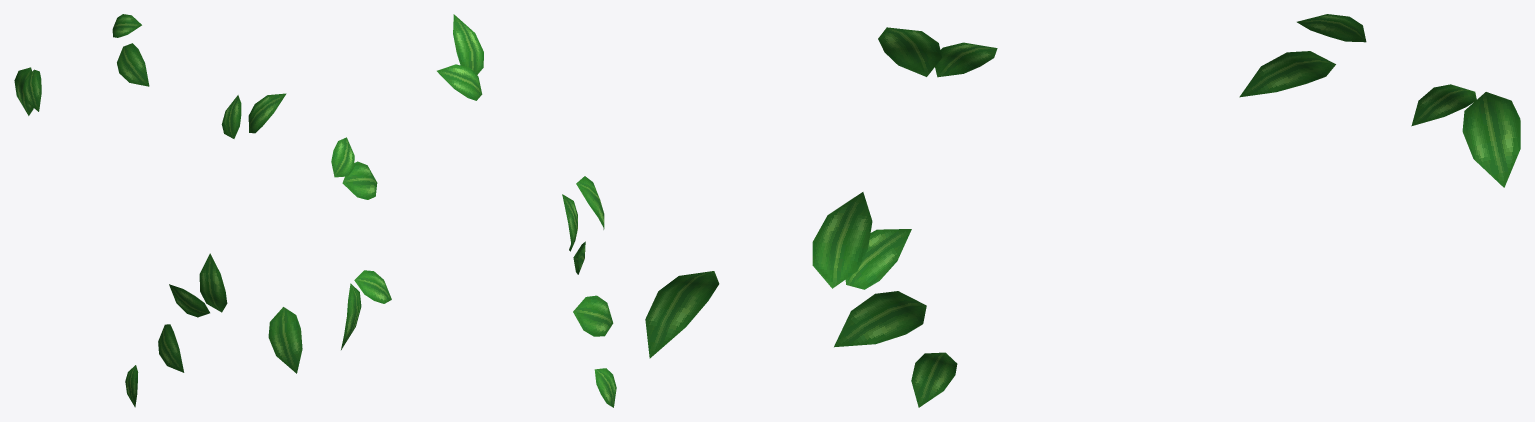
File: EKH_BARRELROOM_PS_JA1_LEAVES04049.fbx
The picture shows the model from 3 angles, left to right: view 1: azimuth 30°, elevation 25°; view 2: azimuth 150°, elevation 25°; view 3: azimuth 270°, elevation 25°; orthographic projection. The views are drawn at different scales.
Parts seen in each view (by area): view 1: EKH_BARRELROOM_PS_JA1_LEAVES04049; view 2: EKH_BARRELROOM_PS_JA1_LEAVES04049; view 3: EKH_BARRELROOM_PS_JA1_LEAVES04049.
Part boxes in pixels (<box>): EKH_BARRELROOM_PS_JA1_LEAVES04049: <box>14,14,302,407</box>; EKH_BARRELROOM_PS_JA1_LEAVES04049: <box>331,14,616,407</box>; EKH_BARRELROOM_PS_JA1_LEAVES04049: <box>645,14,1520,407</box>.
Bounding box in the file's own units: 6908 × 13133 × 20736.
Materials: 1 (1 with a texture image).
